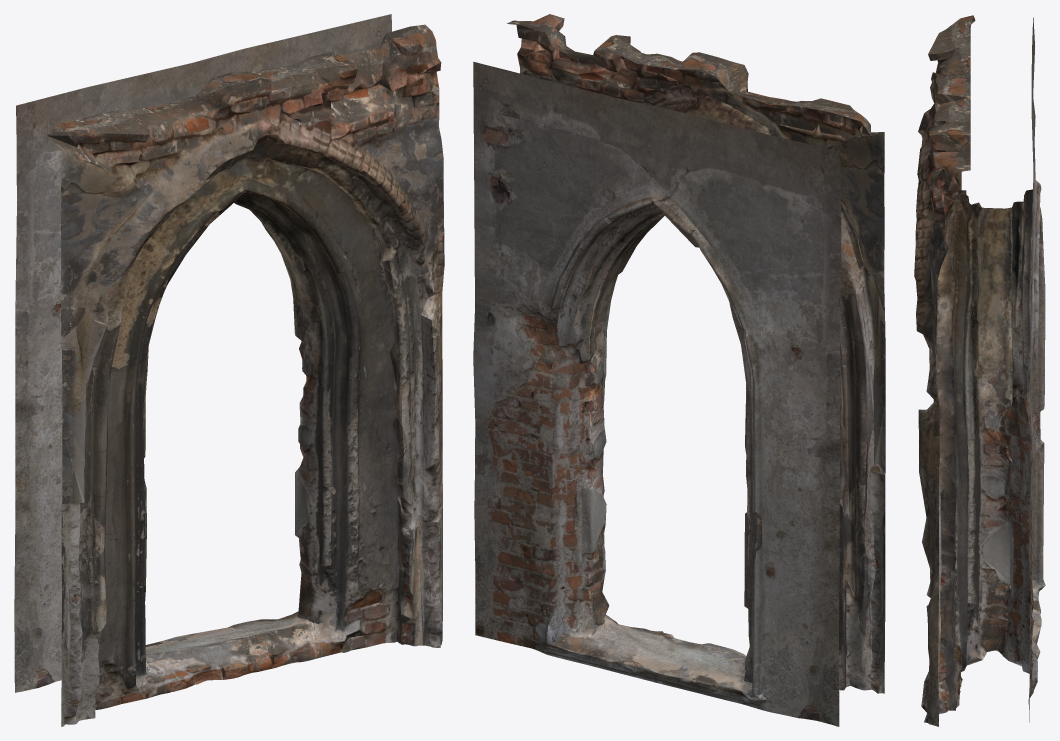
The model's file is SM_ChapelWall_02_05.fbx.
3 views of the same model, side by side, from view 1: azimuth 30°, elevation 25°; view 2: azimuth 150°, elevation 25°; view 3: azimuth 270°, elevation 25° (orthographic). The views are drawn at different scales.
Parts seen in each view (by area): view 1: sm_ChapelWall_02_05_LOD0; view 2: sm_ChapelWall_02_05_LOD0; view 3: sm_ChapelWall_02_05_LOD0.
Boxes of the visible parts, x1,y1,x2,y2 form: sm_ChapelWall_02_05_LOD0: (14,14,444,726); sm_ChapelWall_02_05_LOD0: (473,14,885,726); sm_ChapelWall_02_05_LOD0: (914,15,1045,726).
Size of the model in its own units: 81.99 by 250 by 384.
